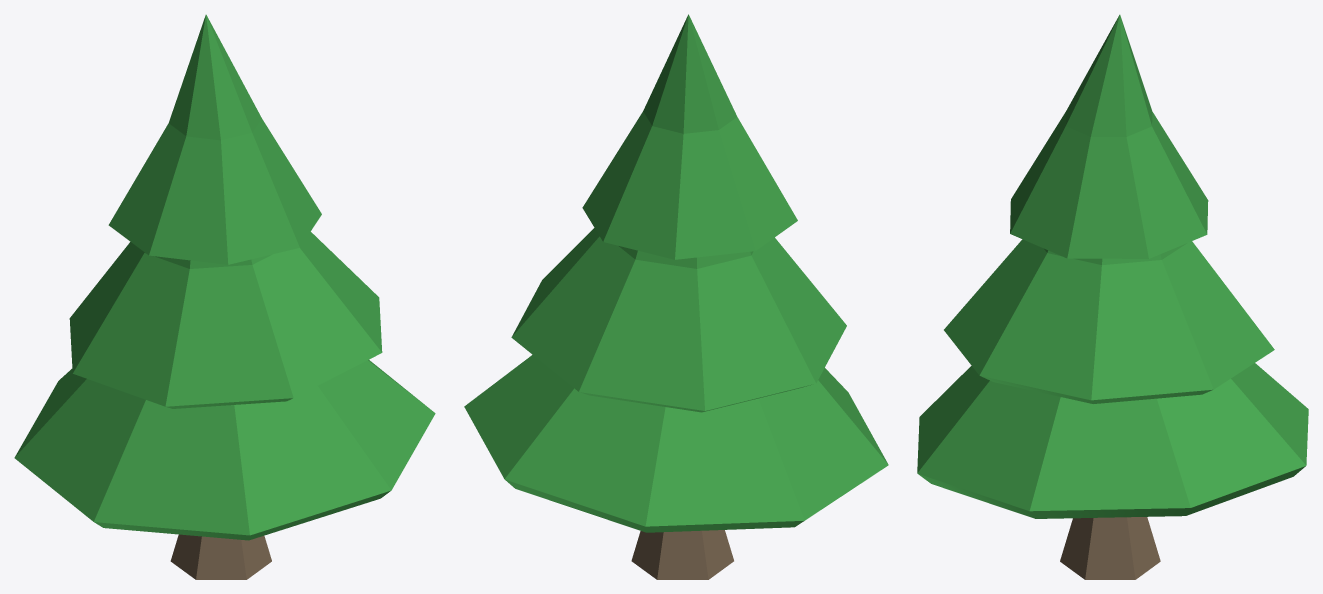
Rendered from pine_e.FBX.
3 renders of one model, left to right at view 1: azimuth 30°, elevation 25°; view 2: azimuth 150°, elevation 25°; view 3: azimuth 270°, elevation 25°, orthographic. The views are drawn at different scales.
Parts seen in each view (by area): view 1: pine_e; view 2: pine_e; view 3: pine_e.
Boxes of the visible parts, x1=… form: pine_e: x1=14, y1=14, x2=435, y2=579; pine_e: x1=464, y1=14, x2=888, y2=579; pine_e: x1=917, y1=14, x2=1308, y2=579.
Bounding box in the file's own units: 2.03 × 3.1 × 2.03.
